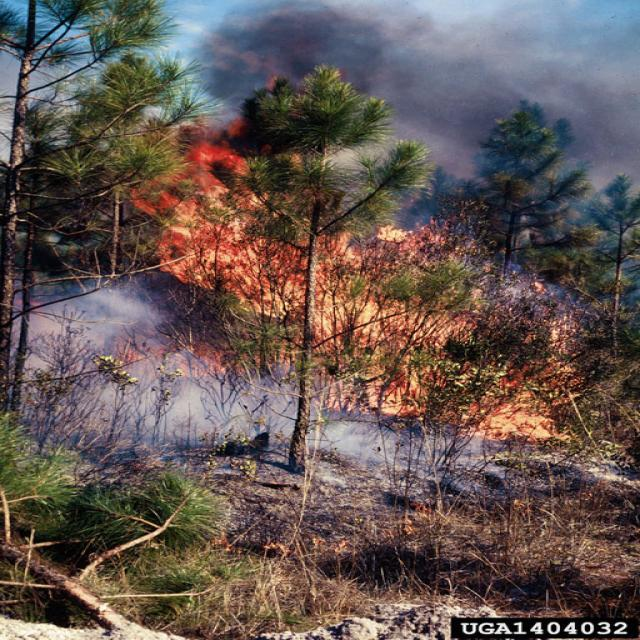Fire: (130, 119, 584, 444)
